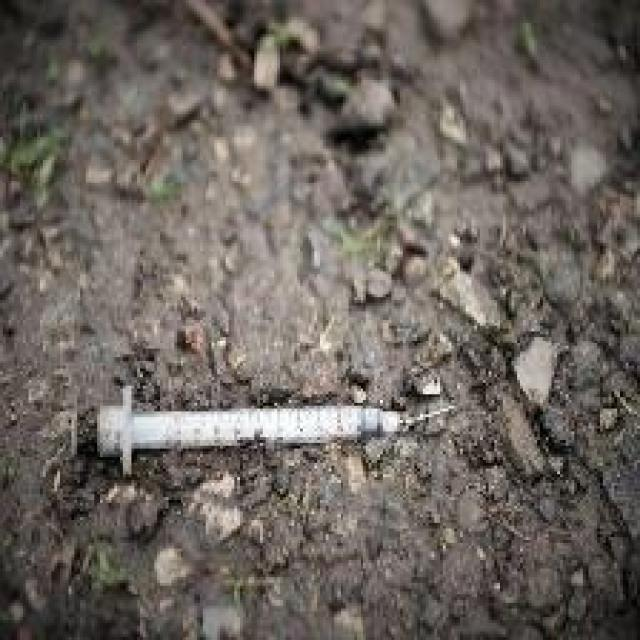syringe: (96, 356, 459, 523)
